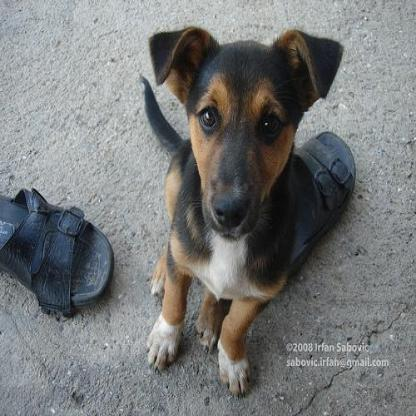Appenzeller: (136, 23, 343, 396)
